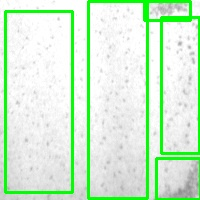pitted_surface: (5, 11, 72, 192), (88, 1, 147, 198), (161, 17, 199, 153), (156, 158, 200, 199), (144, 1, 190, 20)
